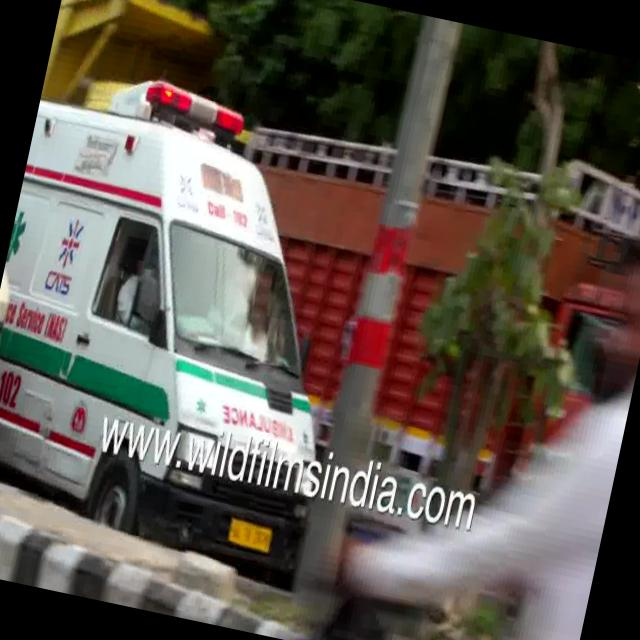ambulance: (0, 23, 417, 613)
